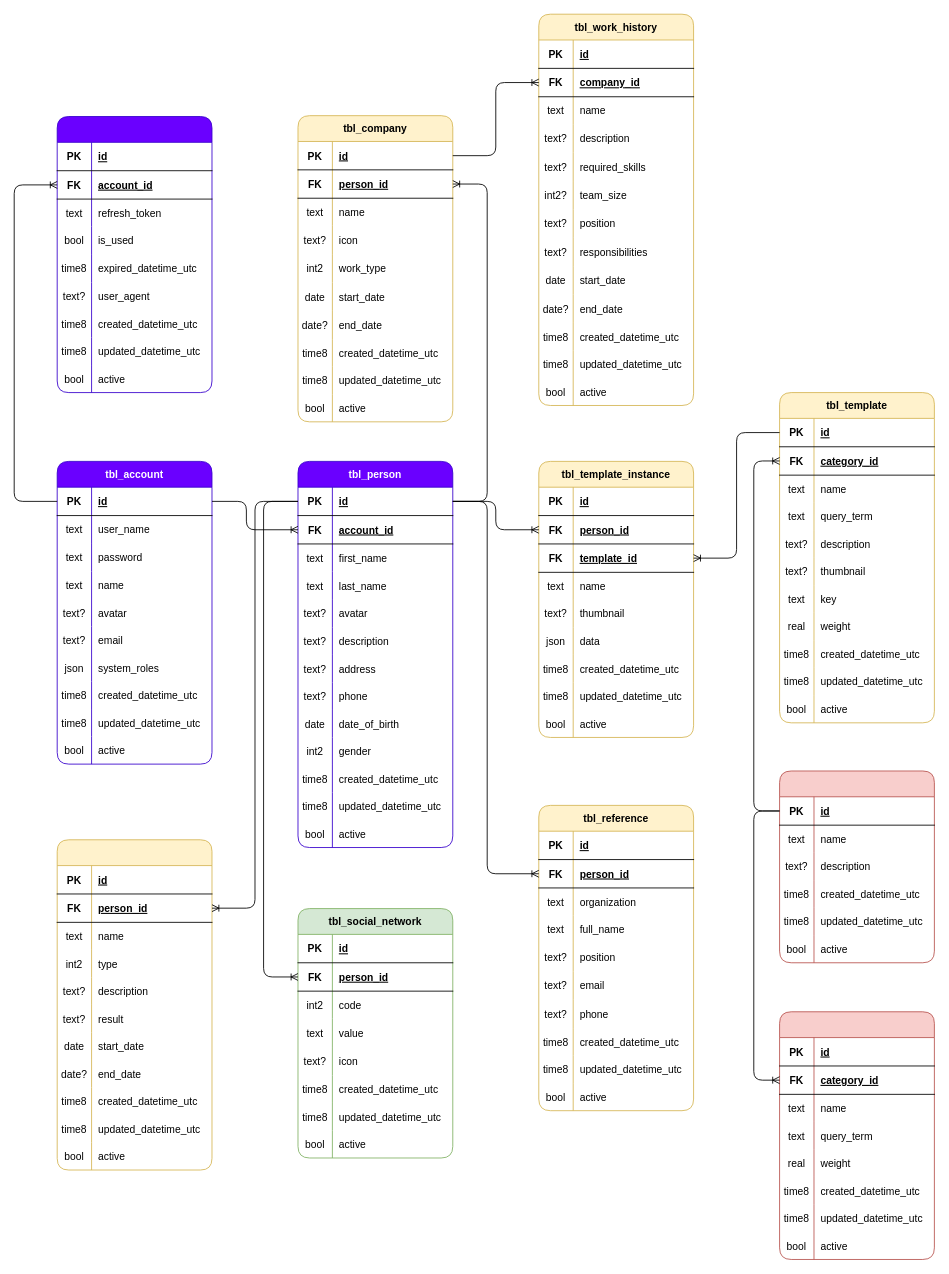
Image size: 949x1274. Some labels were removed from this diagram. The box of each missing label's shape, as (x1, y1, x2, y2) in pixels:
tbl_achievement: (56, 839, 212, 1170)
tbl_category: (779, 770, 934, 963)
tbl_keyword: (779, 1011, 934, 1259)
tbl_token: (56, 116, 212, 393)
